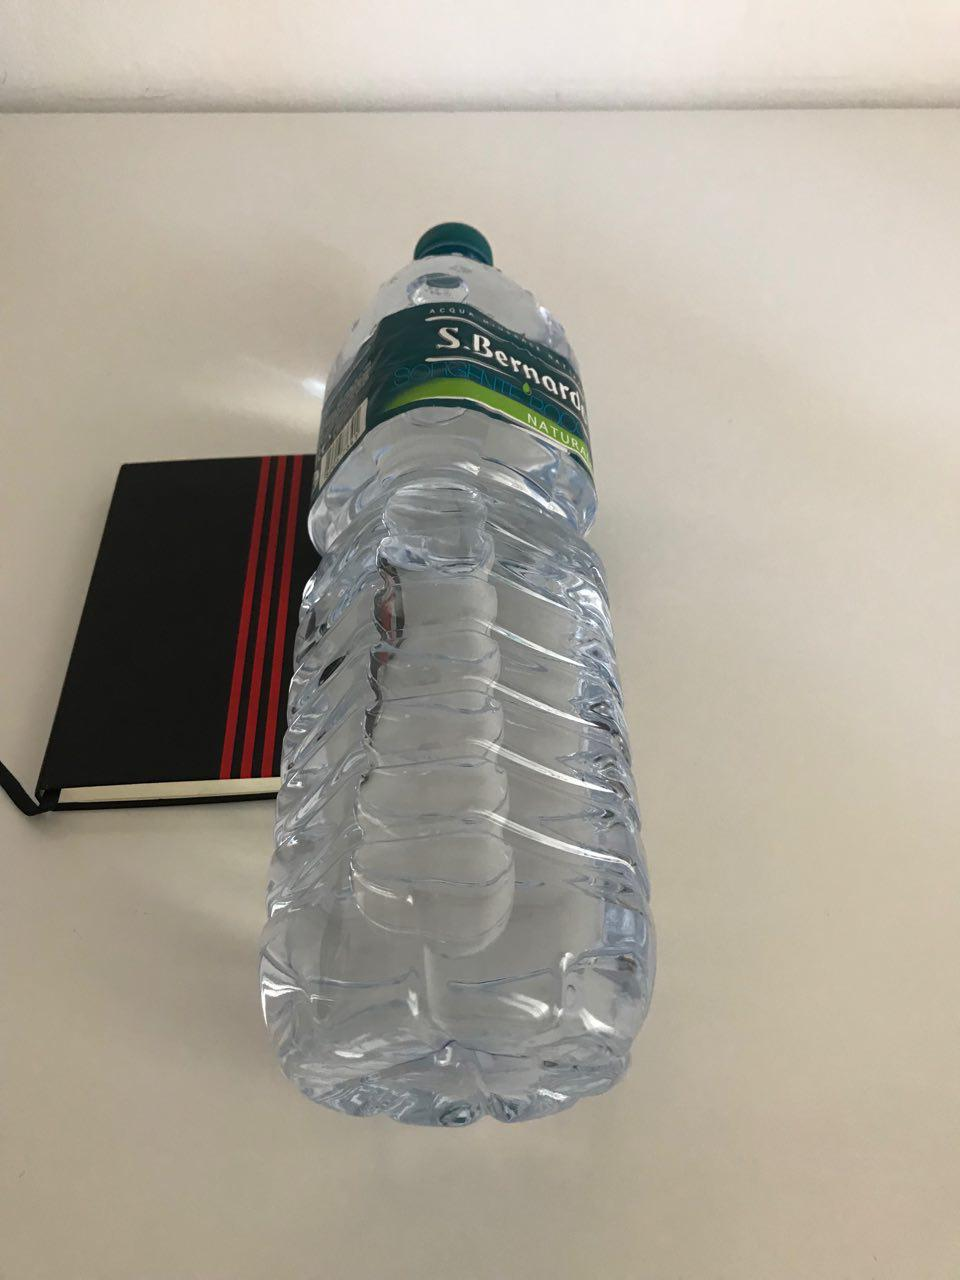san_bernardo: (254, 219, 659, 1129)
